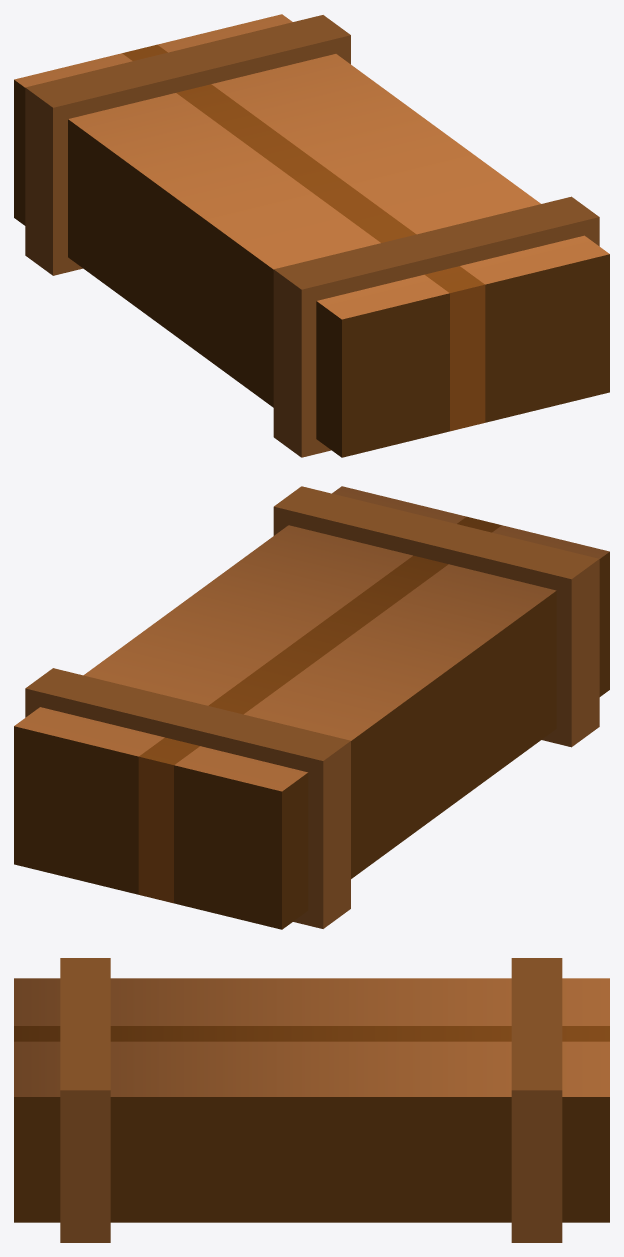
The model's file is ammo_box_03.fbx.
3 views of the same model, one above another, from view 1: azimuth 30°, elevation 25°; view 2: azimuth 150°, elevation 25°; view 3: azimuth 270°, elevation 25° (orthographic). The views are drawn at different scales.
Visible parts, largest first — view 1: ammo_box_03; view 2: ammo_box_03; view 3: ammo_box_03.
Boxes of the visible parts, bbox=[...] form: ammo_box_03: bbox=[14, 14, 609, 457]; ammo_box_03: bbox=[14, 486, 609, 929]; ammo_box_03: bbox=[14, 958, 609, 1242].
Bounding box in the file's own units: 1.08 × 0.5804 × 2.05.
